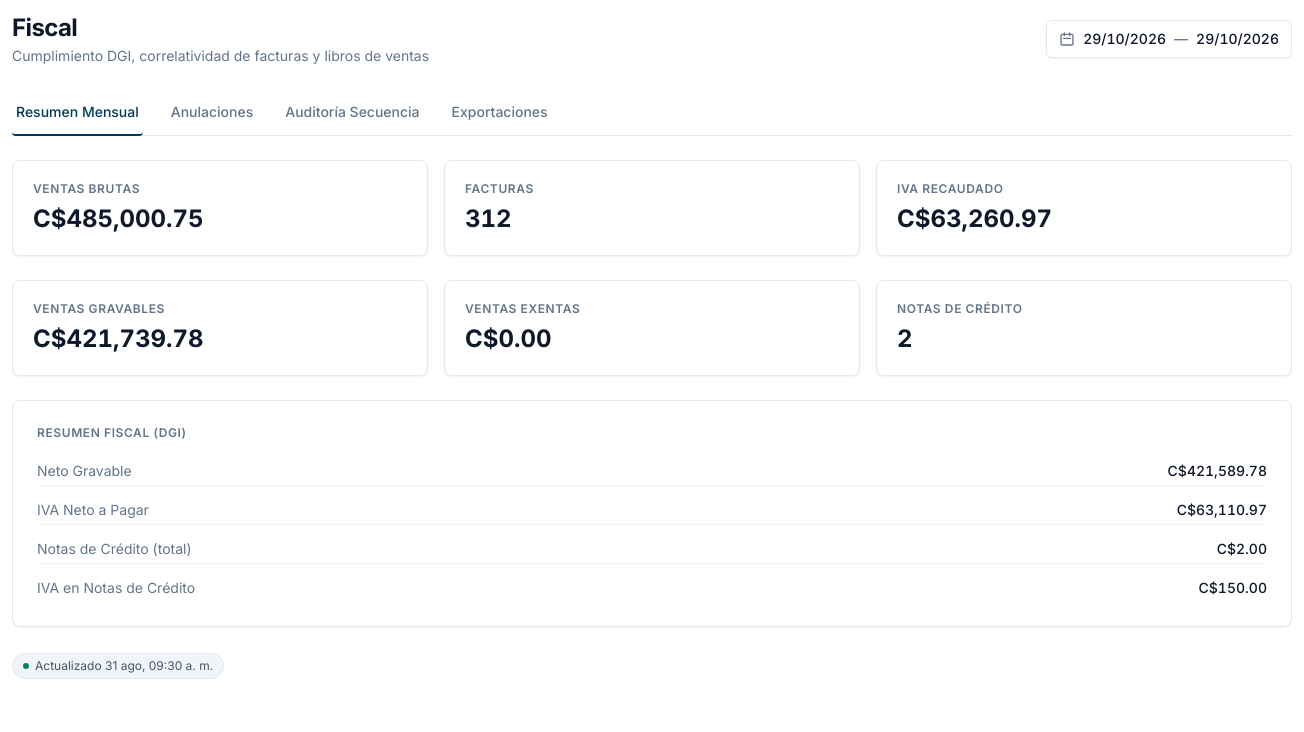
Test: W4 — FiscalPage › switches to exports tab
The image size is (1304, 732).
Step 1. Click the button "Exportaciones" → (500, 113), box [448,90,552,136]
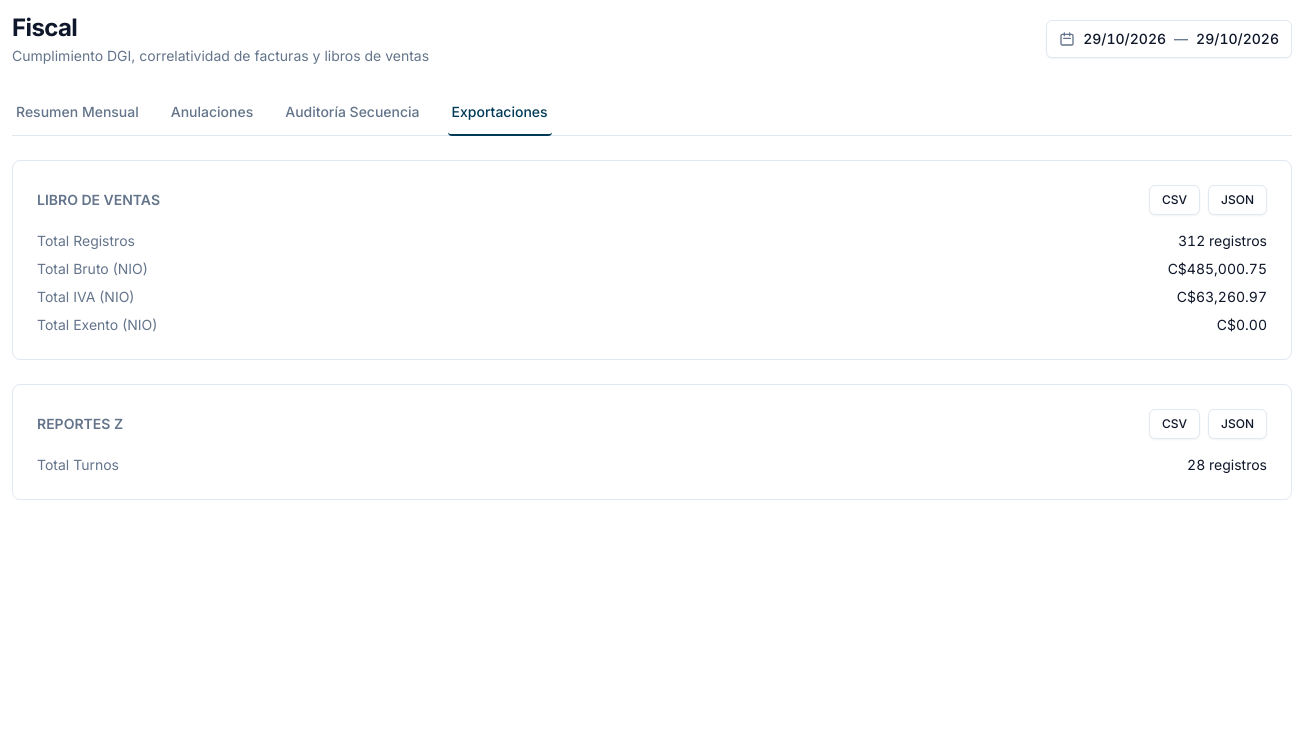
Expected: the heading "Libro de Ventas" is shown, [37,190,160,210]
Expected: the heading "Reportes Z" is shown, [37,414,123,434]
